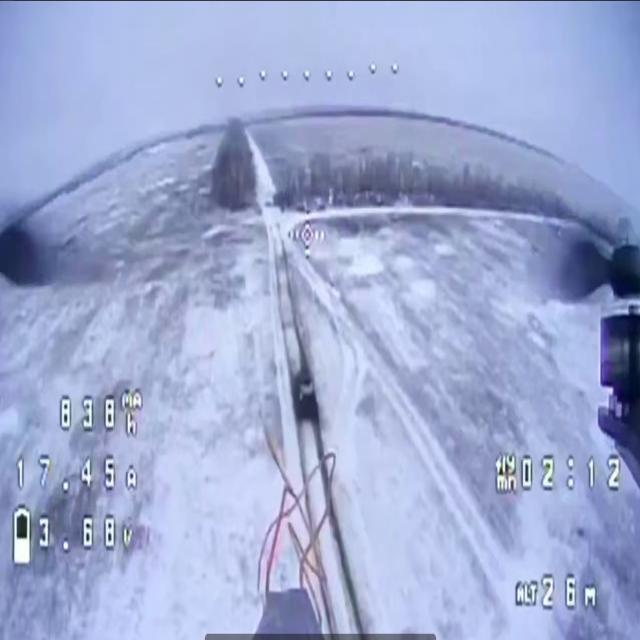vehicle: (281, 367, 338, 432)
